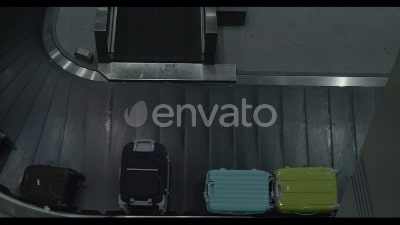baggage: (116, 138, 177, 213), (197, 166, 277, 216), (271, 165, 345, 216), (18, 160, 81, 213)
